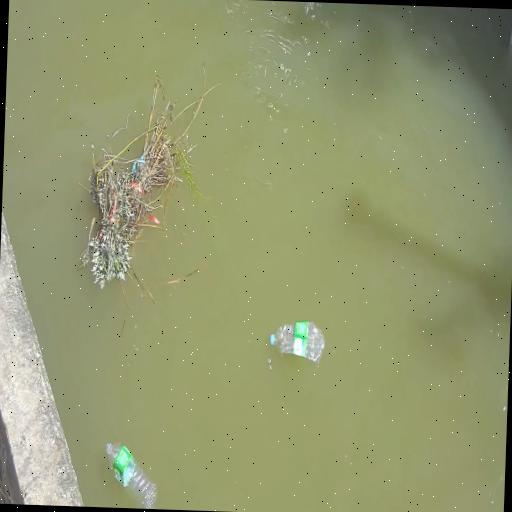plastic: (106, 443, 155, 508), (270, 322, 324, 364)
twig: (78, 63, 222, 301)
